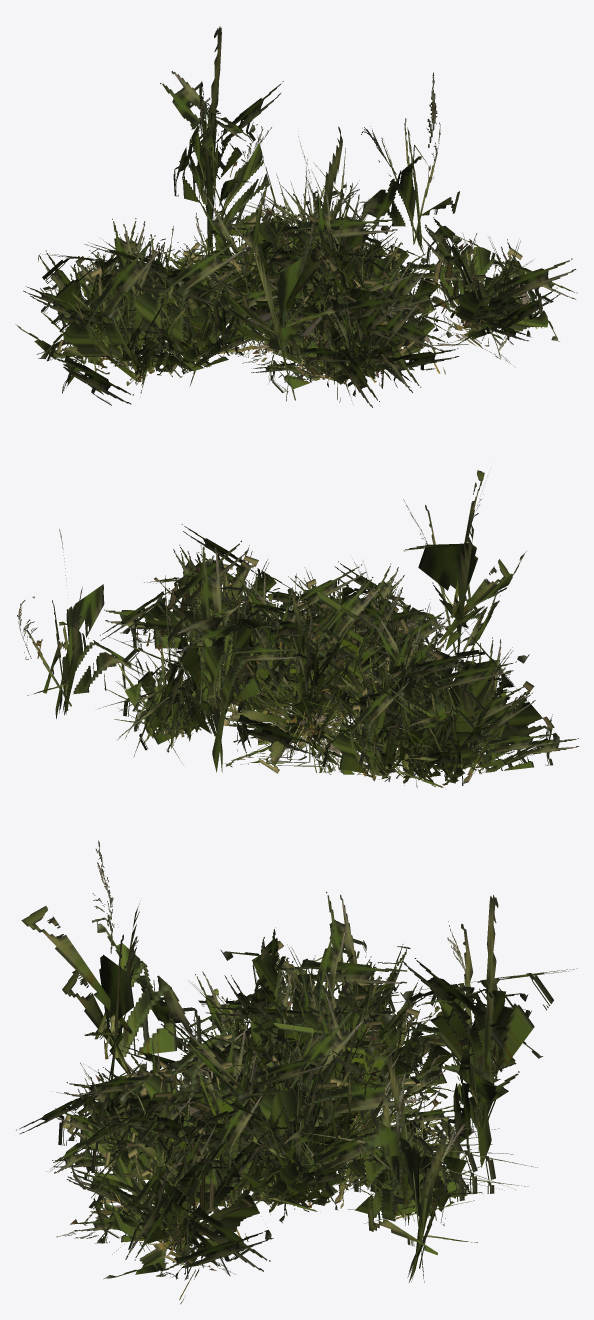
The model's file is grass_a.glb.
3 views of the same model, one above another, from view 1: azimuth 30°, elevation 25°; view 2: azimuth 150°, elevation 25°; view 3: azimuth 270°, elevation 25° (orthographic). The views are drawn at different scales.
Parts seen in each view (by area): view 1: grass_a; view 2: grass_a; view 3: grass_a.
Part boxes in pixels (x1,y1,x2,y2): grass_a: [15, 26, 577, 407]; grass_a: [17, 470, 579, 787]; grass_a: [16, 840, 577, 1304].
Bounding box in the file's own units: 0.7234 × 0.4024 × 0.6195.
1 material, 1 textured.
